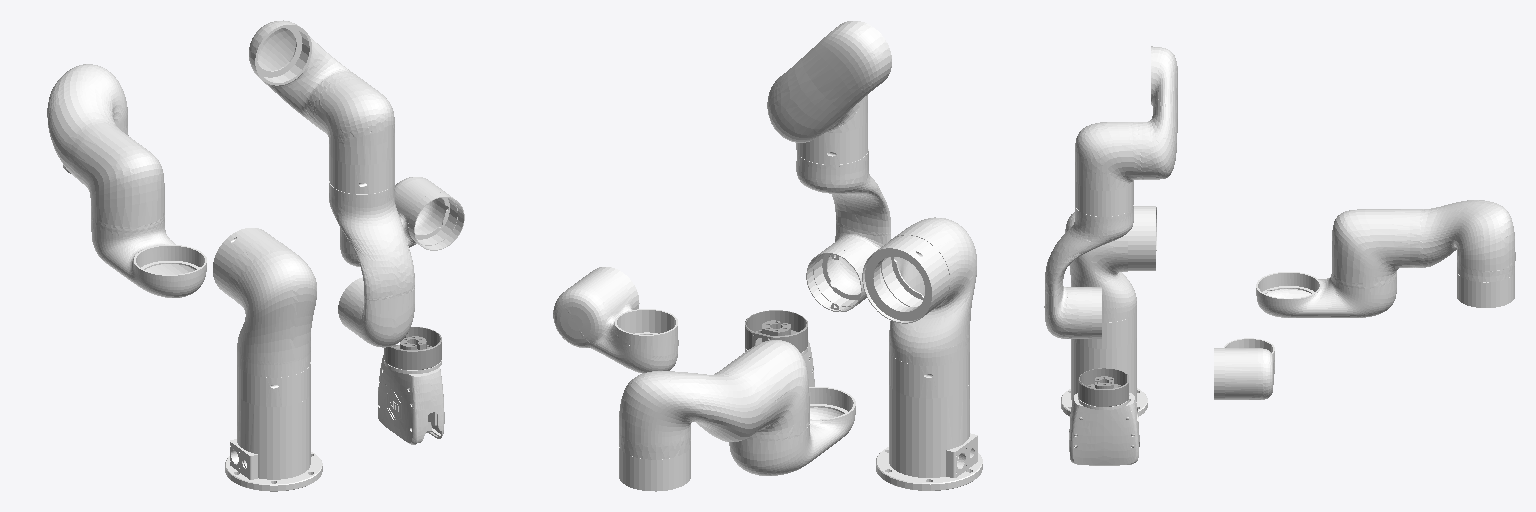
--- Facts derived from the render (not from the file) ---
The picture shows the robot from 3 angles, left to right: view 1: azimuth 30°, elevation 25°; view 2: azimuth 150°, elevation 25°; view 3: azimuth 270°, elevation 25°; orthographic projection.
Robot: xarm6_with_gripper — 17 links, 16 joints (12 revolute, 4 fixed); root link world; default pose: every joint at zero.
Visible links, largest first — view 1: link2, link3, link1, link4, link_base, xarm_gripper_base_link, link5, link6; view 2: link2, link1, link3, link_base, link5, link4, link6; view 3: link2, link3, link4, link1, xarm_gripper_base_link, link_base, link5, link6.
Link boxes in pixels (bbox=[...]): link2: bbox=[47, 64, 206, 297]; link3: bbox=[249, 20, 394, 193]; link1: bbox=[213, 228, 316, 377]; link4: bbox=[329, 181, 414, 347]; link_base: bbox=[225, 362, 322, 491]; xarm_gripper_base_link: bbox=[378, 355, 444, 444]; link5: bbox=[340, 177, 464, 266]; link6: bbox=[384, 327, 441, 369]; link2: bbox=[619, 340, 855, 491]; link1: bbox=[862, 217, 976, 365]; link3: bbox=[767, 21, 891, 164]; link_base: bbox=[876, 352, 982, 490]; link5: bbox=[553, 267, 678, 373]; link4: bbox=[796, 149, 890, 311]; link6: bbox=[745, 310, 807, 352]; link2: bbox=[1256, 200, 1515, 317]; link3: bbox=[1075, 46, 1177, 216]; link4: bbox=[1044, 205, 1133, 338]; link1: bbox=[1065, 206, 1156, 322]; xarm_gripper_base_link: bbox=[1069, 393, 1139, 465]; link_base: bbox=[1061, 312, 1147, 416]; link5: bbox=[1214, 338, 1274, 399]; link6: bbox=[1078, 368, 1128, 406].
Size in the robot's own frame: 0.4385 by 0.6804 by 0.5938 metres.
8 mesh visuals loaded from 14 distinct referenced files (8 binary STL); not drawn: 6 (reference not matched to a file when rendering).

The robot description file, URDF, robot "xarm6_with_gripper":
<?xml version="1.0" encoding="utf-8"?>
<!-- =================================================================================== -->
<!-- |    This document was autogenerated by xacro from xarm6_with_gripper.xacro       | -->
<!-- |    EDITING THIS FILE BY HAND IS NOT RECOMMENDED                                 | -->
<!-- =================================================================================== -->
<robot name="xarm6_with_gripper">
  <!--
  Author: Jason Peng <[email redacted]>
  Contributers:
-->
  <gazebo>
    <plugin filename="libgazebo_ros_control.so" name="gazebo_ros_control">
      <robotNamespace>/xarm</robotNamespace>
      <!-- <controlPeriod>0.0001</controlPeriod> -->
      <robotSimType>gazebo_ros_control/DefaultRobotHWSim</robotSimType>
      <legacyModeNS>true</legacyModeNS>
      <!-- <preserveWorldVelocity>true</preserveWorldVelocity> -->
    </plugin>
  </gazebo>
  <link name="world"/>
  <joint name="world_joint" type="fixed">
    <parent link="world"/>
    <child link="link_base"/>
    <origin rpy="0 0 0" xyz="0 0 0"/>
  </joint>
  <material name="Black">
    <color rgba="0.0 0.0 0.0 1.0"/>
  </material>
  <material name="Red">
    <color rgba="0.8 0.0 0.0 1.0"/>
  </material>
  <material name="White">
    <color rgba="1.0 1.0 1.0 1.0"/>
  </material>
  <material name="Silver">
    <color rgba="0.753 0.753 0.753 1.0"/>
  </material>
  <link name="link_base">
    <visual>
      <geometry>
        <mesh filename="package://xarm_description/meshes/xarm6/visual/base.stl"/>
      </geometry>
      <origin rpy="0 0 0" xyz="0 0 0"/>
      <material name="White"/>
    </visual>
    <collision>
      <geometry>
        <mesh filename="package://xarm_description/meshes/xarm6/visual/base.stl"/>
      </geometry>
      <origin rpy="0 0 0" xyz="0 0 0"/>
    </collision>
    <inertial>
      <origin rpy="0 0 0" xyz="0.0 0.0 0.09103"/>
      <mass value="2.7"/>
      <inertia ixx="0.00494875" ixy="-3.5E-06" ixz="1.25E-05" iyy="0.00494174" iyz="1.67E-06" izz="0.002219"/>
    </inertial>
  </link>
  <link name="link1">
    <visual>
      <geometry>
        <mesh filename="package://xarm_description/meshes/xarm6/visual/link1.stl"/>
      </geometry>
      <origin rpy="0 0 0" xyz="0 0 0"/>
      <material name="White"/>
    </visual>
    <collision>
      <geometry>
        <mesh filename="package://xarm_description/meshes/xarm6/visual/link1.stl"/>
      </geometry>
      <origin rpy="0 0 0" xyz="0 0 0"/>
    </collision>
    <inertial>
      <origin rpy="0 0 0" xyz="-0.002 0.02692 -0.01332"/>
      <mass value="2.16"/>
      <inertia ixx="0.00539427" ixy="1.095E-05" ixz="1.635E-06" iyy="0.0048979" iyz="0.000793" izz="0.00311573"/>
    </inertial>
  </link>
  <joint name="joint1" type="revolute">
    <parent link="link_base"/>
    <child link="link1"/>
    <origin rpy="0 0 0" xyz="0 0 0.267"/>
    <axis xyz="0 0 1"/>
    <limit effort="50.0" lower="-6.28318530718" upper="6.28318530718" velocity="3.14"/>
    <dynamics damping="1.0" friction="1.0"/>
  </joint>
  <link name="link2">
    <visual>
      <geometry>
        <mesh filename="package://xarm_description/meshes/xarm6/visual/link2.stl"/>
      </geometry>
      <origin rpy="0 0 0" xyz="0 0 0"/>
      <material name="White"/>
    </visual>
    <collision>
      <geometry>
        <mesh filename="package://xarm_description/meshes/xarm6/visual/link2.stl"/>
      </geometry>
      <origin rpy="0 0 0" xyz="0 0 0"/>
    </collision>
    <inertial>
      <origin rpy="0 0 0" xyz="0.03531 -0.21398 0.03386"/>
      <mass value="1.71"/>
      <inertia ixx="0.0248674" ixy="-0.00430651" ixz="-0.00067797" iyy="0.00485548" iyz="0.00457245" izz="0.02387827"/>
    </inertial>
  </link>
  <joint name="joint2" type="revolute">
    <parent link="link1"/>
    <child link="link2"/>
    <origin rpy="-1.5708 0 0" xyz="0 0 0"/>
    <axis xyz="0 0 1"/>
    <limit effort="50.0" lower="-2.059" upper="2.0944" velocity="3.14"/>
    <dynamics damping="1.0" friction="1.0"/>
  </joint>
  <link name="link3">
    <visual>
      <geometry>
        <mesh filename="package://xarm_description/meshes/xarm6/visual/link3.stl"/>
      </geometry>
      <origin rpy="0 0 0" xyz="0 0 0"/>
      <material name="White"/>
    </visual>
    <collision>
      <geometry>
        <mesh filename="package://xarm_description/meshes/xarm6/visual/link3.stl"/>
      </geometry>
      <origin rpy="0 0 0" xyz="0 0 0"/>
    </collision>
    <inertial>
      <origin rpy="0 0 0" xyz="0.06781 0.10749 0.01457"/>
      <mass value="1.384"/>
      <inertia ixx="0.0053694" ixy="0.0014185" ixz="-0.00092094" iyy="0.0032423" iyz="-0.00169178" izz="0.00501731"/>
    </inertial>
  </link>
  <joint name="joint3" type="revolute">
    <parent link="link2"/>
    <child link="link3"/>
    <origin rpy="0 0 0" xyz="0.0535 -0.2845 0"/>
    <axis xyz="0 0 1"/>
    <limit effort="32.0" lower="-3.927" upper="0.19198" velocity="3.14"/>
    <dynamics damping="1.0" friction="1.0"/>
  </joint>
  <link name="link4">
    <visual>
      <geometry>
        <mesh filename="package://xarm_description/meshes/xarm6/visual/link4.stl"/>
      </geometry>
      <origin rpy="0 0 0" xyz="0 0 0"/>
      <material name="White"/>
    </visual>
    <collision>
      <geometry>
        <mesh filename="package://xarm_description/meshes/xarm6/visual/link4.stl"/>
      </geometry>
      <origin rpy="0 0 0" xyz="0 0 0"/>
    </collision>
    <inertial>
      <origin rpy="0 0 0" xyz="-0.00021 0.02578 -0.02538"/>
      <mass value="1.115"/>
      <inertia ixx="0.00439263" ixy="5.028E-05" ixz="1.374E-05" iyy="0.0040077" iyz="0.00045338" izz="0.00110321"/>
    </inertial>
  </link>
  <joint name="joint4" type="revolute">
    <parent link="link3"/>
    <child link="link4"/>
    <origin rpy="-1.5708 0 0" xyz="0.0775 0.3425 0"/>
    <axis xyz="0 0 1"/>
    <limit effort="32.0" lower="-6.28318530718" upper="6.28318530718" velocity="3.14"/>
    <dynamics damping="1.0" friction="1.0"/>
  </joint>
  <link name="link5">
    <visual>
      <geometry>
        <mesh filename="package://xarm_description/meshes/xarm6/visual/link5.stl"/>
      </geometry>
      <origin rpy="0 0 0" xyz="0 0 0"/>
      <material name="White"/>
    </visual>
    <collision>
      <geometry>
        <mesh filename="package://xarm_description/meshes/xarm6/visual/link5.stl"/>
      </geometry>
      <origin rpy="0 0 0" xyz="0 0 0"/>
    </collision>
    <inertial>
      <origin rpy="0 0 0" xyz="0.05428 0.01781 0.00543"/>
      <mass value="1.275"/>
      <inertia ixx="0.001202758" ixy="0.000492428" ixz="-0.00039147" iyy="0.0022876" iyz="-1.235E-04" izz="0.0026866"/>
    </inertial>
  </link>
  <joint name="joint5" type="revolute">
    <parent link="link4"/>
    <child link="link5"/>
    <origin rpy="1.5708 0 0" xyz="0 0 0"/>
    <axis xyz="0 0 1"/>
    <limit effort="32.0" lower="-1.69297" upper="3.14159265359" velocity="3.14"/>
    <dynamics damping="1.0" friction="1.0"/>
  </joint>
  <link name="link6">
    <visual>
      <geometry>
        <mesh filename="package://xarm_description/meshes/xarm6/visual/link6.stl"/>
      </geometry>
      <origin rpy="0 0 0" xyz="0 0 0"/>
      <material name="Silver"/>
    </visual>
    <collision>
      <geometry>
        <mesh filename="package://xarm_description/meshes/xarm6/visual/link6.stl"/>
      </geometry>
      <origin rpy="0 0 0" xyz="0 0 0"/>
    </collision>
    <inertial>
      <origin rpy="0 0 0" xyz="0 0.00064 -0.00952"/>
      <mass value="0.1096"/>
      <inertia ixx="4.5293E-05" ixy="0" ixz="0" iyy="4.8111E-05" iyz="0" izz="7.9715E-05"/>
    </inertial>
  </link>
  <joint name="joint6" type="revolute">
    <parent link="link5"/>
    <child link="link6"/>
    <origin rpy="-1.5708 0 0" xyz="0.076 0.097 0"/>
    <axis xyz="0 0 1"/>
    <limit effort="20.0" lower="-6.28318530718" upper="6.28318530718" velocity="3.14"/>
    <dynamics damping="1.0" friction="1.0"/>
  </joint>
  <link name="link_eef"/>
  <joint name="joint_eef" type="fixed">
    <origin rpy="0 0 0" xyz="0 0 0"/>
    <parent link="link6"/>
    <child link="link_eef"/>
  </joint>
  <transmission name="tran1">
    <type>transmission_interface/SimpleTransmission</type>
    <joint name="joint1">
      <hardwareInterface>hardware_interface/PositionJointInterface</hardwareInterface>
    </joint>
    <actuator name="motor1">
      <hardwareInterface>hardware_interface/PositionJointInterface</hardwareInterface>
      <mechanicalReduction>100</mechanicalReduction>
    </actuator>
  </transmission>
  <transmission name="tran2">
    <type>transmission_interface/SimpleTransmission</type>
    <joint name="joint2">
      <hardwareInterface>hardware_interface/PositionJointInterface</hardwareInterface>
    </joint>
    <actuator name="motor2">
      <hardwareInterface>hardware_interface/PositionJointInterface</hardwareInterface>
      <mechanicalReduction>100</mechanicalReduction>
    </actuator>
  </transmission>
  <transmission name="tran3">
    <type>transmission_interface/SimpleTransmission</type>
    <joint name="joint3">
      <hardwareInterface>hardware_interface/PositionJointInterface</hardwareInterface>
    </joint>
    <actuator name="motor3">
      <hardwareInterface>hardware_interface/PositionJointInterface</hardwareInterface>
      <mechanicalReduction>100</mechanicalReduction>
    </actuator>
  </transmission>
  <transmission name="tran4">
    <type>transmission_interface/SimpleTransmission</type>
    <joint name="joint4">
      <hardwareInterface>hardware_interface/PositionJointInterface</hardwareInterface>
    </joint>
    <actuator name="motor3">
      <hardwareInterface>hardware_interface/PositionJointInterface</hardwareInterface>
      <mechanicalReduction>100</mechanicalReduction>
    </actuator>
  </transmission>
  <transmission name="tran5">
    <type>transmission_interface/SimpleTransmission</type>
    <joint name="joint5">
      <hardwareInterface>hardware_interface/PositionJointInterface</hardwareInterface>
    </joint>
    <actuator name="motor5">
      <hardwareInterface>hardware_interface/PositionJointInterface</hardwareInterface>
      <mechanicalReduction>100</mechanicalReduction>
    </actuator>
  </transmission>
  <transmission name="tran6">
    <type>transmission_interface/SimpleTransmission</type>
    <joint name="joint6">
      <hardwareInterface>hardware_interface/PositionJointInterface</hardwareInterface>
    </joint>
    <actuator name="motor6">
      <hardwareInterface>hardware_interface/PositionJointInterface</hardwareInterface>
      <mechanicalReduction>100</mechanicalReduction>
    </actuator>
  </transmission>
  <gazebo reference="link_base">
    <selfCollide>true</selfCollide>
  </gazebo>
  <gazebo reference="link1">
    <selfCollide>true</selfCollide>
  </gazebo>
  <gazebo reference="link2">
    <selfCollide>true</selfCollide>
  </gazebo>
  <gazebo reference="link3">
    <selfCollide>true</selfCollide>
  </gazebo>
  <gazebo reference="link4">
    <selfCollide>true</selfCollide>
  </gazebo>
  <gazebo reference="link5">
    <selfCollide>true</selfCollide>
  </gazebo>
  <gazebo reference="link6">
    <selfCollide>true</selfCollide>
  </gazebo>
  <!-- gazebo plugin -->
  <!-- <xacro:gazebo_ros_control_plugin namespace="${ns}"/> -->
  <joint name="gripper_fix" type="fixed">
    <parent link="link_eef"/>
    <child link="xarm_gripper_base_link"/>
    <origin rpy="0 0 0" xyz="0 0 0"/>
  </joint>
  <link name="xarm_gripper_base_link">
    <inertial>
      <origin rpy="0 0 0" xyz="-0.00065489 -0.0018497 0.048028"/>
      <mass value="0.54156"/>
      <inertia ixx="0.00047106" ixy="3.9292E-07" ixz="2.6537E-06" iyy="0.00033072" iyz="-1.0975E-05" izz="0.00025642"/>
    </inertial>
    <visual>
      <origin rpy="0 0 0" xyz="0 0 0"/>
      <geometry>
        <mesh filename="package://xarm_gripper/meshes/base_link.STL"/>
      </geometry>
      <!-- <material
        name="">
        <color
          rgba="0.89804 0.91765 0.92941 1" />
      </material> -->
      <material name="White">
        <color rgba="1.0 1.0 1.0 1.0"/>
      </material>
    </visual>
    <collision>
      <origin rpy="0 0 0" xyz="0 0 0"/>
      <geometry>
        <mesh filename="package://xarm_gripper/meshes/base_link.STL"/>
      </geometry>
    </collision>
  </link>
  <link name="left_outer_knuckle">
    <inertial>
      <origin rpy="0 0 0" xyz="2.9948E-14 0.021559 0.015181"/>
      <mass value="0.033618"/>
      <inertia ixx="1.9111E-05" ixy="-1.8803E-17" ixz="-1.1002E-17" iyy="6.6256E-06" iyz="-7.3008E-06" izz="1.3185E-05"/>
    </inertial>
    <visual>
      <origin rpy="0 0 0" xyz="0 0 0"/>
      <geometry>
        <mesh filename="package://xarm_gripper/meshes/left_outer_knuckle.STL"/>
      </geometry>
      <material name="Silver">
        <color rgba="0.753 0.753 0.753 1.0"/>
      </material>
    </visual>
    <collision>
      <origin rpy="0 0 0" xyz="0 0 0"/>
      <geometry>
        <mesh filename="package://xarm_gripper/meshes/left_outer_knuckle.STL"/>
      </geometry>
    </collision>
  </link>
  <joint name="drive_joint" type="revolute">
    <origin rpy="0 0 0" xyz="0 0.035 0.059098"/>
    <parent link="xarm_gripper_base_link"/>
    <child link="left_outer_knuckle"/>
    <axis xyz="1 0 0"/>
    <limit effort="50" lower="0" upper="0.85" velocity="2"/>
  </joint>
  <link name="left_finger">
    <inertial>
      <origin rpy="0 0 0" xyz="-2.4536E-14 -0.016413 0.029258"/>
      <mass value="0.048304"/>
      <inertia ixx="1.7493E-05" ixy="-4.2156E-19" ixz="6.9164E-18" iyy="1.7225E-05" iyz="4.6433E-06" izz="5.1466E-06"/>
    </inertial>
    <visual>
      <origin rpy="0 0 0" xyz="0 0 0"/>
      <geometry>
        <mesh filename="package://xarm_gripper/meshes/left_finger.STL"/>
      </geometry>
      <material name="Silver">
        <color rgba="0.753 0.753 0.753 1.0"/>
      </material>
    </visual>
    <collision>
      <origin rpy="0 0 0" xyz="0 0 0"/>
      <geometry>
        <mesh filename="package://xarm_gripper/meshes/left_finger.STL"/>
      </geometry>
    </collision>
  </link>
  <joint name="left_finger_joint" type="revolute">
    <origin rpy="0 0 0" xyz="0 0.035465 0.042039"/>
    <parent link="left_outer_knuckle"/>
    <child link="left_finger"/>
    <axis xyz="-1 0 0"/>
    <limit effort="50" lower="0" upper="0.85" velocity="2"/>
    <mimic joint="drive_joint" multiplier="1" offset="0"/>
  </joint>
  <link name="left_inner_knuckle">
    <inertial>
      <origin rpy="0 0 0" xyz="1.86600784687907E-06 0.0220467847633621 0.0261334672830885"/>
      <mass value="0.0230125781256706"/>
      <inertia ixx="6.09490024271906E-06" ixy="6.06651326160071E-11" ixz="7.19102670500635E-11" iyy="6.01955084375188E-06" iyz="-2.75316812991721E-06" izz="5.07862004479903E-06"/>
    </inertial>
    <visual>
      <origin rpy="0 0 0" xyz="0 0 0"/>
      <geometry>
        <mesh filename="package://xarm_gripper/meshes/left_inner_knuckle.STL"/>
      </geometry>
      <material name="Silver">
        <color rgba="0.753 0.753 0.753 1.0"/>
      </material>
    </visual>
    <collision>
      <origin rpy="0 0 0" xyz="0 0 0"/>
      <geometry>
        <mesh filename="package://xarm_gripper/meshes/left_inner_knuckle.STL"/>
      </geometry>
    </collision>
  </link>
  <joint name="left_inner_knuckle_joint" type="revolute">
    <origin rpy="0 0 0" xyz="0 0.02 0.074098"/>
    <parent link="xarm_gripper_base_link"/>
    <child link="left_inner_knuckle"/>
    <axis xyz="1 0 0"/>
    <limit effort="50" lower="0" upper="0.85" velocity="2"/>
    <mimic joint="drive_joint" multiplier="1" offset="0"/>
  </joint>
  <link name="right_outer_knuckle">
    <inertial>
      <origin rpy="0 0 0" xyz="-3.1669E-14 -0.021559 0.015181"/>
      <mass value="0.033618"/>
      <inertia ixx="1.9111E-05" ixy="-1.8789E-17" ixz="1.0986E-17" iyy="6.6256E-06" iyz="7.3008E-06" izz="1.3185E-05"/>
    </inertial>
    <visual>
      <origin rpy="0 0 0" xyz="0 0 0"/>
      <geometry>
        <mesh filename="package://xarm_gripper/meshes/right_outer_knuckle.STL"/>
      </geometry>
      <material name="Silver">
        <color rgba="0.753 0.753 0.753 1.0"/>
      </material>
    </visual>
    <collision>
      <origin rpy="0 0 0" xyz="0 0 0"/>
      <geometry>
        <mesh filename="package://xarm_gripper/meshes/right_outer_knuckle.STL"/>
      </geometry>
    </collision>
  </link>
  <joint name="right_outer_knuckle_joint" type="revolute">
    <origin rpy="0 0 0" xyz="0 -0.035 0.059098"/>
    <parent link="xarm_gripper_base_link"/>
    <child link="right_outer_knuckle"/>
    <axis xyz="-1 0 0"/>
    <limit effort="50" lower="0" upper="0.85" velocity="2"/>
    <mimic joint="drive_joint" multiplier="1" offset="0"/>
  </joint>
  <link name="right_finger">
    <inertial>
      <origin rpy="0 0 0" xyz="2.5618E-14 0.016413 0.029258"/>
      <mass value="0.048304"/>
      <inertia ixx="1.7493E-05" ixy="-5.0014E-19" ixz="-7.5079E-18" iyy="1.7225E-05" iyz="-4.6435E-06" izz="5.1466E-06"/>
    </inertial>
    <visual>
      <origin rpy="0 0 0" xyz="0 0 0"/>
      <geometry>
        <mesh filename="package://xarm_gripper/meshes/right_finger.STL"/>
      </geometry>
      <material name="Silver">
        <color rgba="0.753 0.753 0.753 1.0"/>
      </material>
    </visual>
    <collision>
      <origin rpy="0 0 0" xyz="0 0 0"/>
      <geometry>
        <mesh filename="package://xarm_gripper/meshes/right_finger.STL"/>
      </geometry>
    </collision>
  </link>
  <joint name="right_finger_joint" type="revolute">
    <origin rpy="0 0 0" xyz="0 -0.035465 0.042039"/>
    <parent link="right_outer_knuckle"/>
    <child link="right_finger"/>
    <axis xyz="1 0 0"/>
    <limit effort="50" lower="0" upper="0.85" velocity="2"/>
    <mimic joint="drive_joint" multiplier="1" offset="0"/>
  </joint>
  <link name="right_inner_knuckle">
    <inertial>
      <origin rpy="0 0 0" xyz="1.866E-06 -0.022047 0.026133"/>
      <mass value="0.023013"/>
      <inertia ixx="6.0949E-06" ixy="-6.0665E-11" ixz="7.191E-11" iyy="6.0197E-06" iyz="2.7531E-06" izz="5.0784E-06"/>
    </inertial>
    <visual>
      <origin rpy="0 0 0" xyz="0 0 0"/>
      <geometry>
        <mesh filename="package://xarm_gripper/meshes/right_inner_knuckle.STL"/>
      </geometry>
      <material name="Silver">
        <color rgba="0.753 0.753 0.753 1.0"/>
      </material>
    </visual>
    <collision>
      <origin rpy="0 0 0" xyz="0 0 0"/>
      <geometry>
        <mesh filename="package://xarm_gripper/meshes/right_inner_knuckle.STL"/>
      </geometry>
    </collision>
  </link>
  <joint name="right_inner_knuckle_joint" type="revolute">
    <origin rpy="0 0 0" xyz="0 -0.02 0.074098"/>
    <parent link="xarm_gripper_base_link"/>
    <child link="right_inner_knuckle"/>
    <axis xyz="-1 0 0"/>
    <limit effort="50" lower="0" upper="0.85" velocity="2"/>
    <mimic joint="drive_joint" multiplier="1" offset="0"/>
  </joint>
  <link name="link_tcp"/>
  <joint name="joint_tcp" type="fixed">
    <origin rpy="0 0 0" xyz="0 0 0.172"/>
    <parent link="xarm_gripper_base_link"/>
    <child link="link_tcp"/>
  </joint>
  <transmission name="drive_joint_trans">
    <type>transmission_interface/SimpleTransmission</type>
    <joint name="drive_joint">
      <hardwareInterface>hardware_interface/PositionJointInterface</hardwareInterface>
    </joint>
    <actuator name="drive_joint_motor">
      <hardwareInterface>hardware_interface/PositionJointInterface</hardwareInterface>
      <mechanicalReduction>1</mechanicalReduction>
    </actuator>
  </transmission>
  <gazebo reference="xarm_gripper_base_link">
    <selfCollide>false</selfCollide>
  </gazebo>
  <gazebo reference="left_outer_knuckle">
    <selfCollide>false</selfCollide>
  </gazebo>
  <gazebo reference="left_finger">
    <selfCollide>false</selfCollide>
  </gazebo>
  <gazebo reference="left_inner_knuckle">
    <selfCollide>false</selfCollide>
  </gazebo>
  <gazebo reference="right_outer_knuckle">
    <selfCollide>false</selfCollide>
  </gazebo>
  <gazebo reference="right_finger">
    <selfCollide>false</selfCollide>
  </gazebo>
  <gazebo reference="right_inner_knuckle">
    <selfCollide>false</selfCollide>
  </gazebo>
  <gazebo>
    <!-- old version -->
    <!-- <plugin name="${name_prefix}mimic_joint_plugin" filename="libroboticsgroup_gazebo_mimic_joint_plugin.so"> -->
    <!-- new version -->
    <plugin filename="libroboticsgroup_upatras_gazebo_mimic_joint_plugin.so" name="left_finger_jointmimic_joint_plugin">
      <joint>drive_joint</joint>
      <mimicJoint>left_finger_joint</mimicJoint>
      <!-- if set to true, PID parameters from "/gazebo_ros_control/pid_gains/${mimic_joint}" are loaded -->
      <hasPID/>
      <multiplier>1.0</multiplier>
      <offset>0</offset>
      <sensitiveness>0.0</sensitiveness>
      <!-- if absolute difference between setpoint and process value is below this threshold, do nothing; 0.0 = disable [rad] -->
      <maxEffort>10.0</maxEffort>
    </plugin>
  </gazebo>
  <gazebo>
    <!-- old version -->
    <!-- <plugin name="${name_prefix}mimic_joint_plugin" filename="libroboticsgroup_gazebo_mimic_joint_plugin.so"> -->
    <!-- new version -->
    <plugin filename="libroboticsgroup_upatras_gazebo_mimic_joint_plugin.so" name="left_inner_knuckle_jointmimic_joint_plugin">
      <joint>drive_joint</joint>
      <mimicJoint>left_inner_knuckle_joint</mimicJoint>
      <!-- if set to true, PID parameters from "/gazebo_ros_control/pid_gains/${mimic_joint}" are loaded -->
      <hasPID/>
      <multiplier>1.0</multiplier>
      <offset>0</offset>
      <sensitiveness>0.0</sensitiveness>
      <!-- if absolute difference between setpoint and process value is below this threshold, do nothing; 0.0 = disable [rad] -->
      <maxEffort>10.0</maxEffort>
    </plugin>
  </gazebo>
  <gazebo>
    <!-- old version -->
    <!-- <plugin name="${name_prefix}mimic_joint_plugin" filename="libroboticsgroup_gazebo_mimic_joint_plugin.so"> -->
    <!-- new version -->
    <plugin filename="libroboticsgroup_upatras_gazebo_mimic_joint_plugin.so" name="right_outer_knuckle_jointmimic_joint_plugin">
      <joint>drive_joint</joint>
      <mimicJoint>right_outer_knuckle_joint</mimicJoint>
      <!-- if set to true, PID parameters from "/gazebo_ros_control/pid_gains/${mimic_joint}" are loaded -->
      <hasPID/>
      <multiplier>1.0</multiplier>
      <offset>0</offset>
      <sensitiveness>0.0</sensitiveness>
      <!-- if absolute difference between setpoint and process value is below this threshold, do nothing; 0.0 = disable [rad] -->
      <maxEffort>10.0</maxEffort>
    </plugin>
  </gazebo>
  <gazebo>
    <!-- old version -->
    <!-- <plugin name="${name_prefix}mimic_joint_plugin" filename="libroboticsgroup_gazebo_mimic_joint_plugin.so"> -->
    <!-- new version -->
    <plugin filename="libroboticsgroup_upatras_gazebo_mimic_joint_plugin.so" name="right_finger_jointmimic_joint_plugin">
      <joint>drive_joint</joint>
      <mimicJoint>right_finger_joint</mimicJoint>
      <!-- if set to true, PID parameters from "/gazebo_ros_control/pid_gains/${mimic_joint}" are loaded -->
      <hasPID/>
      <multiplier>1.0</multiplier>
      <offset>0</offset>
      <sensitiveness>0.0</sensitiveness>
      <!-- if absolute difference between setpoint and process value is below this threshold, do nothing; 0.0 = disable [rad] -->
      <maxEffort>10.0</maxEffort>
    </plugin>
  </gazebo>
  <gazebo>
    <!-- old version -->
    <!-- <plugin name="${name_prefix}mimic_joint_plugin" filename="libroboticsgroup_gazebo_mimic_joint_plugin.so"> -->
    <!-- new version -->
    <plugin filename="libroboticsgroup_upatras_gazebo_mimic_joint_plugin.so" name="right_inner_knuckle_jointmimic_joint_plugin">
      <joint>drive_joint</joint>
      <mimicJoint>right_inner_knuckle_joint</mimicJoint>
      <!-- if set to true, PID parameters from "/gazebo_ros_control/pid_gains/${mimic_joint}" are loaded -->
      <hasPID/>
      <multiplier>1.0</multiplier>
      <offset>0</offset>
      <sensitiveness>0.0</sensitiveness>
      <!-- if absolute difference between setpoint and process value is below this threshold, do nothing; 0.0 = disable [rad] -->
      <maxEffort>10.0</maxEffort>
    </plugin>
  </gazebo>
</robot>
